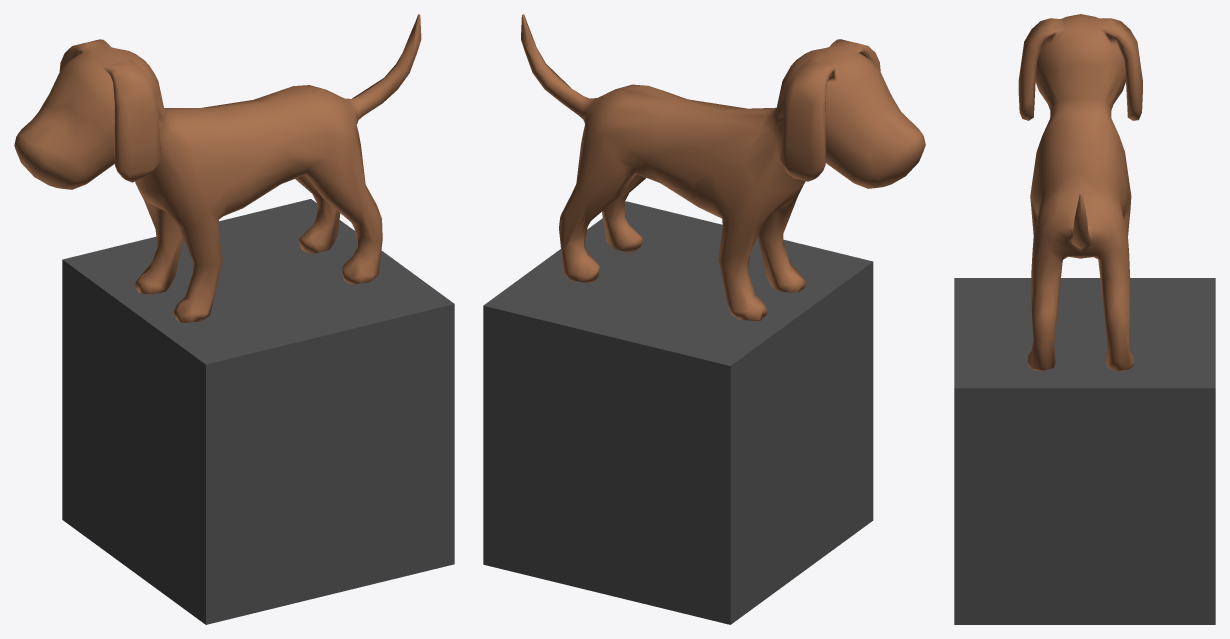
The model's file is perro_estatua.glb.
The picture shows the model from 3 angles, left to right: view 1: azimuth 30°, elevation 25°; view 2: azimuth 150°, elevation 25°; view 3: azimuth 270°, elevation 25°; orthographic projection. The views are drawn at different scales.
Parts seen in each view (by area): view 1: root_Material_64_0, root_Material_62_0; view 2: root_Material_64_0, root_Material_62_0; view 3: root_Material_64_0, root_Material_62_0.
Part boxes in pixels (x1,y1,x2,y2): root_Material_64_0: (62, 199, 454, 624); root_Material_62_0: (14, 14, 421, 323); root_Material_64_0: (483, 201, 873, 624); root_Material_62_0: (521, 14, 925, 321); root_Material_64_0: (954, 278, 1215, 624); root_Material_62_0: (1018, 14, 1142, 371).
Size of the model in its own units: 0.3234 by 0.407 by 0.2.
2 materials, 1 textured.
